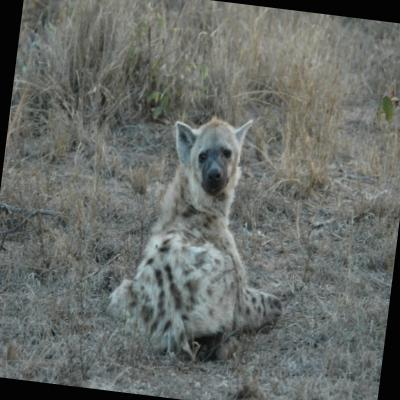hyenas: (68, 86, 301, 385)
